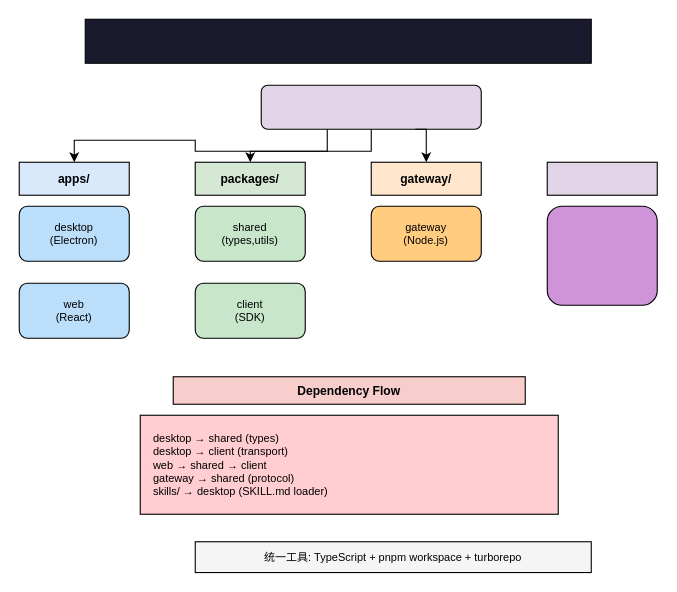
This 677x592 diagram has some shape labels left out. The shapes that lost their labels are listed below. From the top down, each one's box as (x1, y1, x2, y2) in pixels, then its label:
(84, 18, 591, 63): CatBuddy Monorepo — 12 个包的依赖关系
(260, 84, 481, 129): catbuddy/ (root)
(546, 161, 657, 195): skills/
(546, 205, 657, 305): diagram github weather tmux ...
